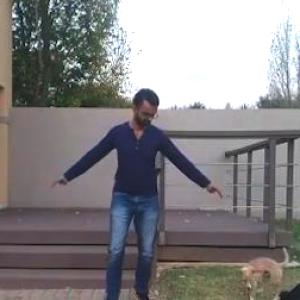land: (1, 82, 205, 299)
